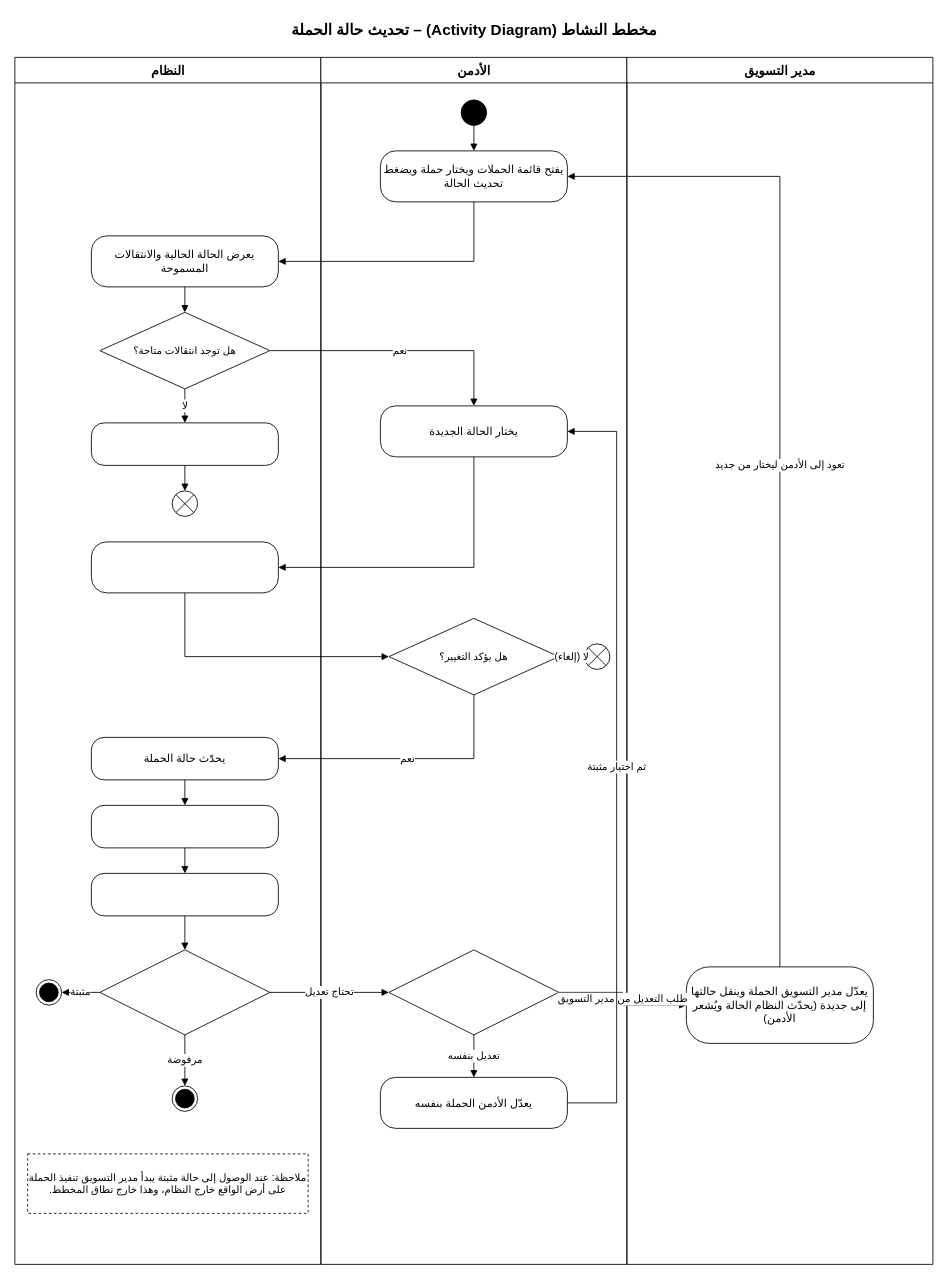
Image size: 948x1279. Some labels were removed from this diagram. Each missing label, with the centre of its shape:
كيف يتم التعديل؟: point 473,992
ما الحالة الجديدة؟: point 184,992
يرسل إشعاراً إلى الطرف الآخر: point 184,826
يعرض رسالة بعدم إمكانية تغيير الحالة: point 184,443
يعرض رسالة تأكيد تغيير الحالة (نعم / إلغاء): point 184,567
يعرض رسالة نجاح: point 184,894
